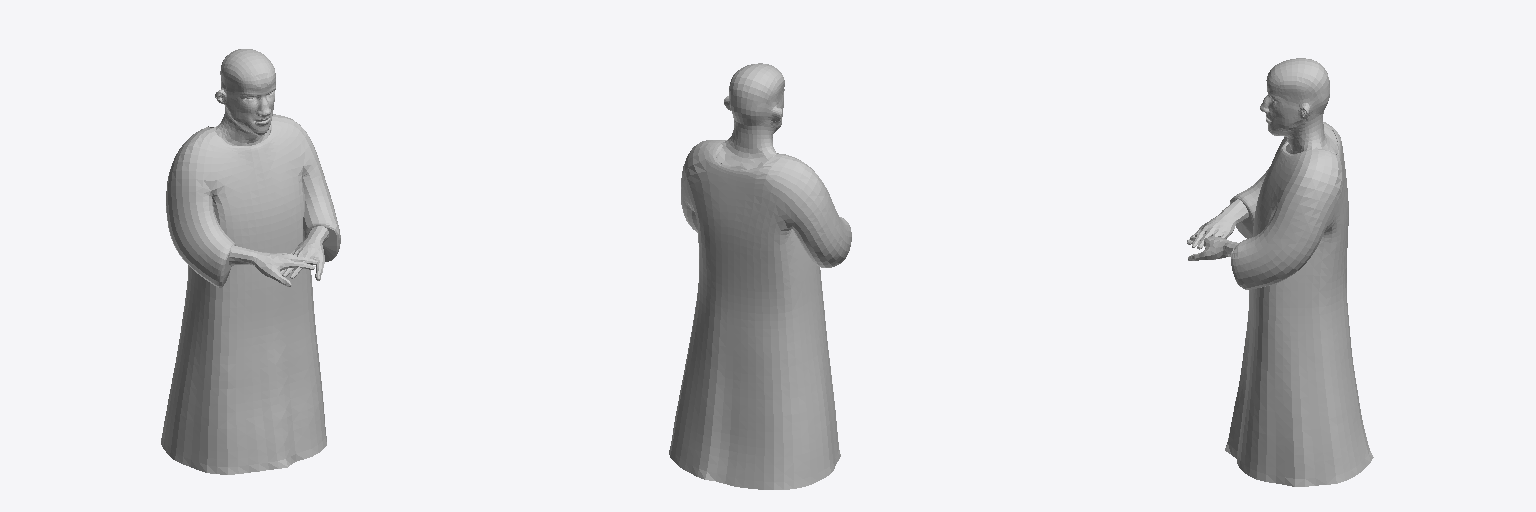
Rendered from Balla.obj.
3 views of the same model, side by side, from view 1: azimuth 30°, elevation 25°; view 2: azimuth 150°, elevation 25°; view 3: azimuth 270°, elevation 25° (orthographic).
Visible parts, largest first — view 1: Balla27792; view 2: Balla27792; view 3: Balla27792.
Part boxes in pixels (x1,y1,x2,y2): Balla27792: (161,49,340,474); Balla27792: (669,63,851,489); Balla27792: (1187,58,1373,486).
Size of the model in its own units: 89.68 by 219 by 94.93.